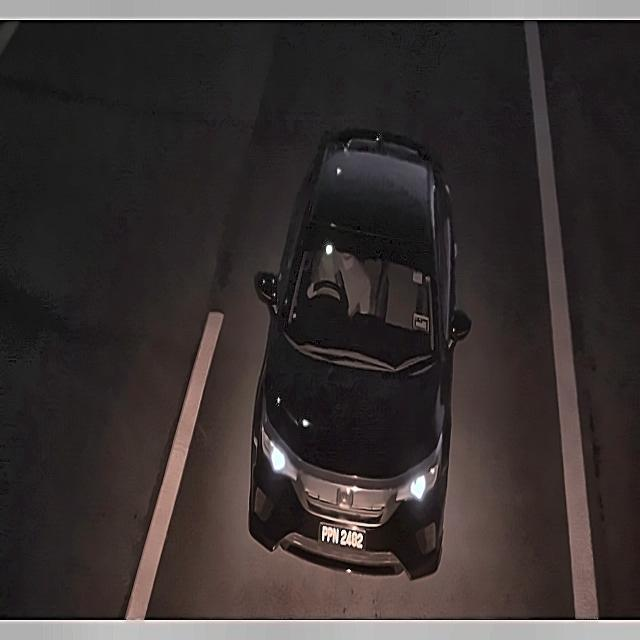car: (314, 512, 372, 562)
